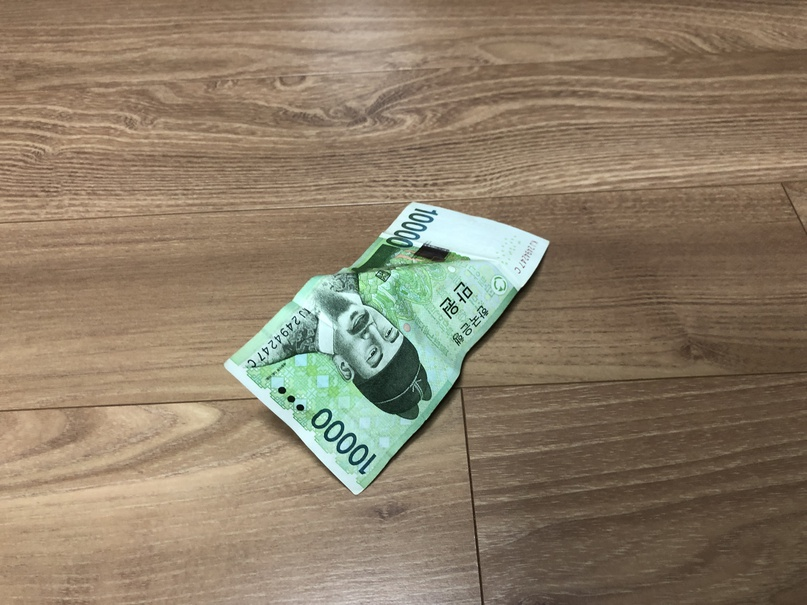10000won: (224, 198, 550, 496)
